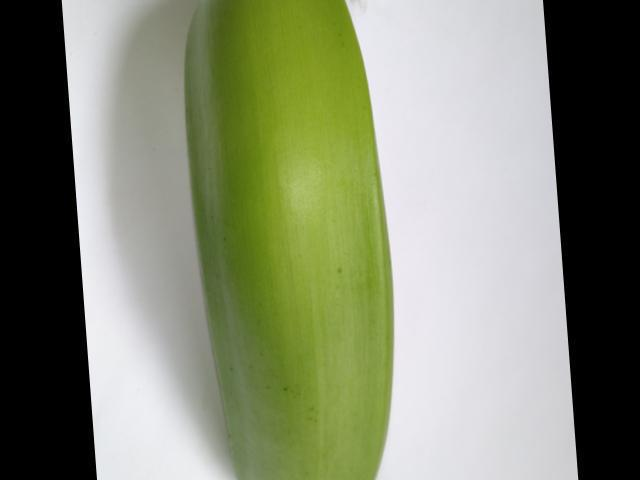freshunripe: (173, 0, 416, 479)
